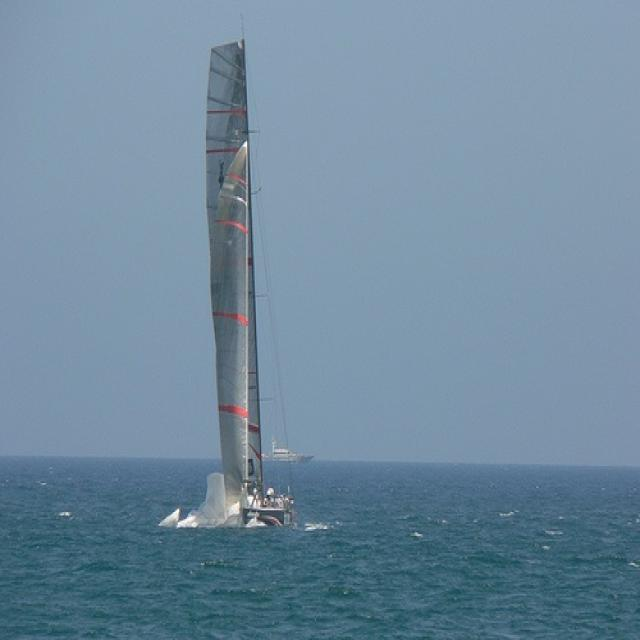boat: (205, 12, 294, 527)
